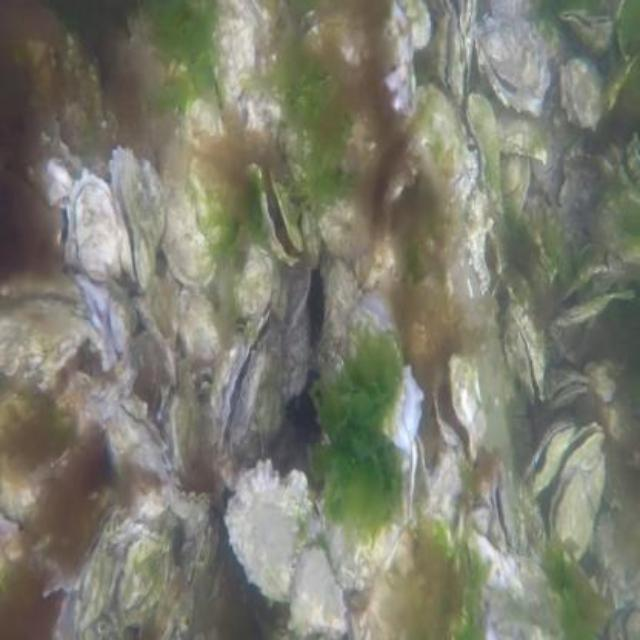Oyster-Closed: (226, 459, 349, 638), (361, 514, 471, 638), (0, 271, 89, 382), (74, 507, 132, 628), (165, 171, 219, 285), (67, 169, 121, 281), (115, 525, 172, 631), (105, 399, 171, 485), (203, 0, 254, 105), (373, 5, 418, 122), (289, 546, 346, 634), (351, 295, 404, 386), (162, 360, 200, 483), (468, 93, 505, 219), (371, 367, 423, 448), (492, 96, 547, 159), (233, 242, 276, 321), (561, 55, 607, 128), (180, 293, 222, 361), (181, 512, 213, 587), (499, 150, 529, 217), (165, 485, 208, 521), (471, 502, 492, 537), (152, 380, 166, 423)
Oyster-Open: (213, 306, 277, 448), (473, 12, 553, 115), (109, 146, 164, 295), (431, 348, 488, 469), (246, 160, 306, 274), (498, 270, 547, 408), (550, 261, 635, 328), (558, 421, 605, 519), (526, 420, 579, 502), (548, 474, 596, 561), (431, 0, 464, 101), (490, 468, 518, 552), (560, 8, 613, 49), (409, 437, 432, 519), (548, 373, 591, 413), (196, 367, 214, 402)
